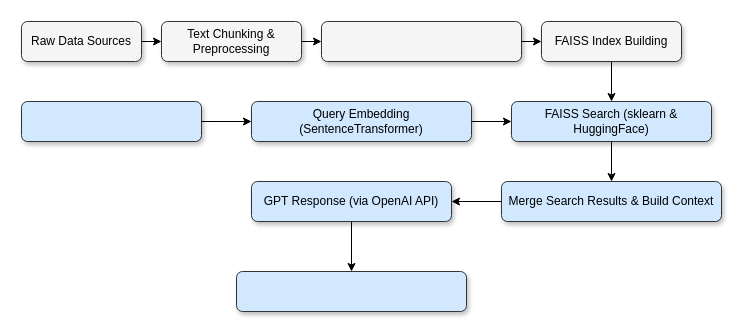
Image size: 745x336. Some labels were removed from this diagram. Here are the shapes that lost their labels. From the top down, the centre of each, then its label:
(422,42): Embedding Generation (SentenceTransformer)
(112,122): User Query Input (Frontend)
(352,292): Frontend Display: Answer & Sources
